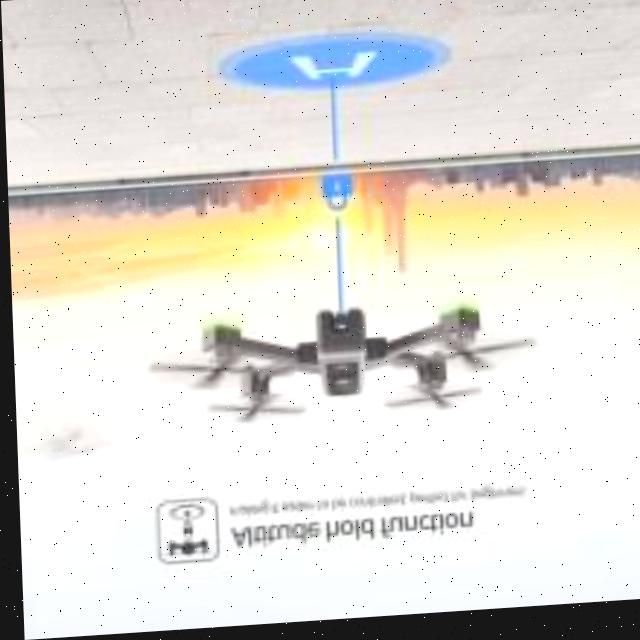drone: (142, 280, 524, 449)
